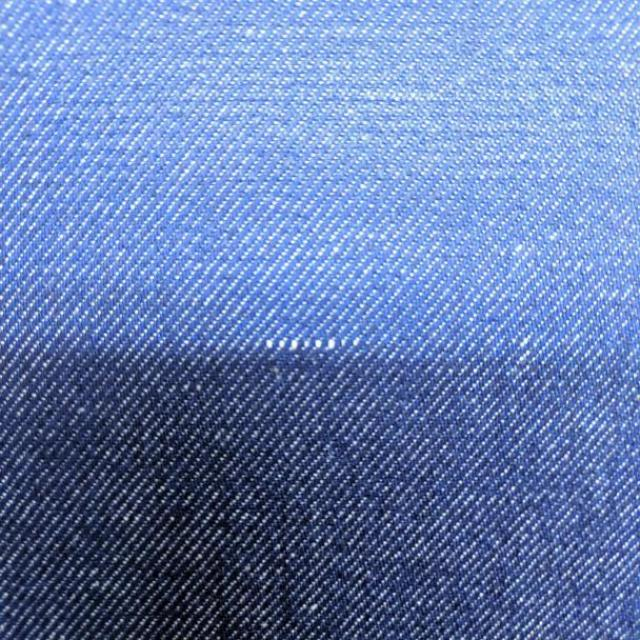Knot: (264, 337, 362, 352)
